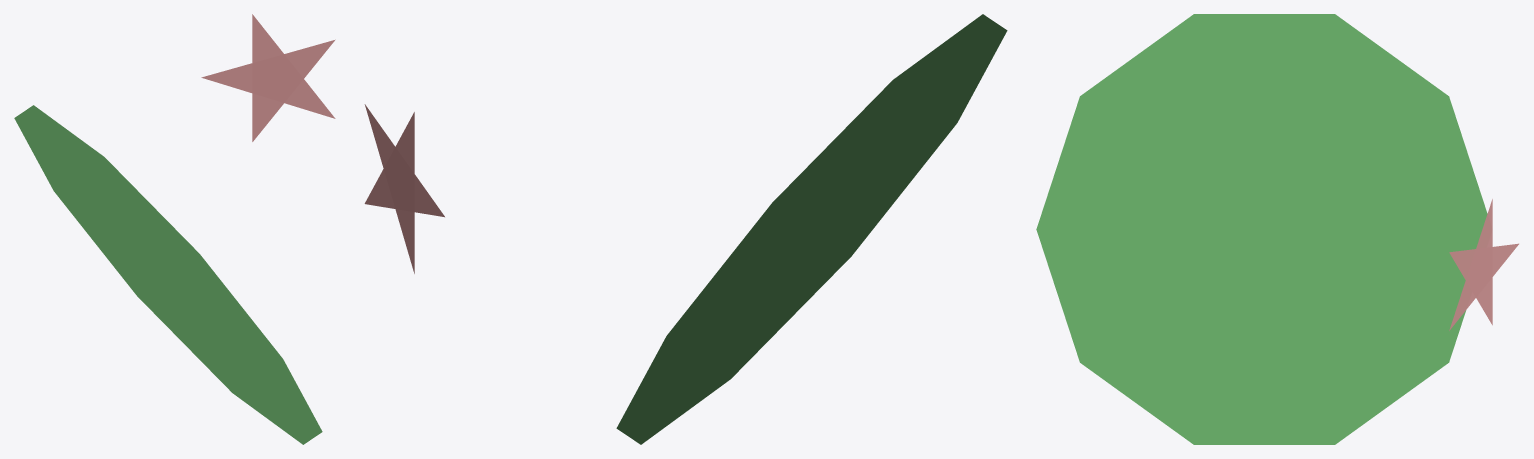
Rendered from TruncatedGreatDodecahedronF.obj.
The picture shows the model from 3 angles, left to right: view 1: azimuth 30°, elevation 25°; view 2: azimuth 150°, elevation 25°; view 3: azimuth 270°, elevation 25°; orthographic projection. The views are drawn at different scales.
Bounding box in the file's own units: 2.93 × 2.62 × 3.43.
